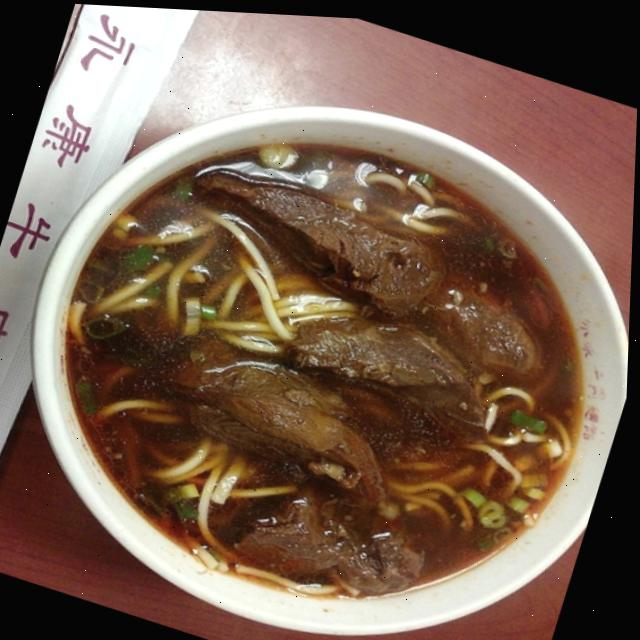面条主食: (0, 13, 640, 640)
